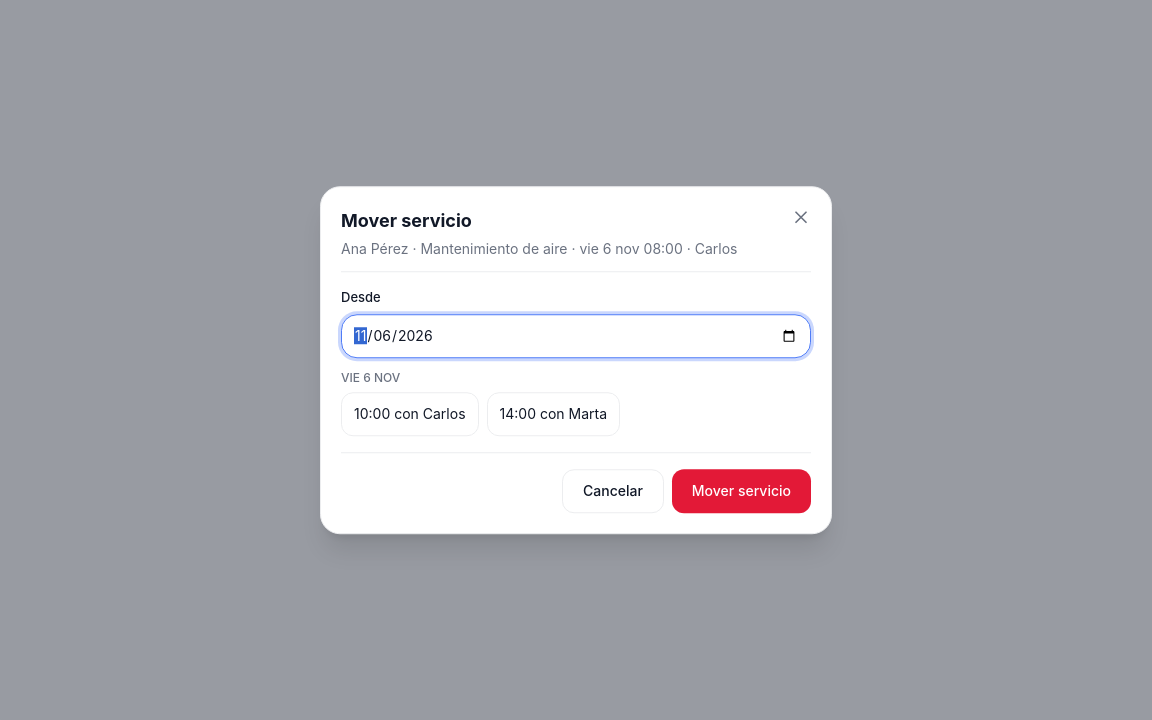
MoveAppointmentDialog › avisa con claridad que cambia el técnico y que se informará al cliente
Click the radio button labelled "14:00 con Marta". click: (553, 414)
box: 486,392 -> 620,436
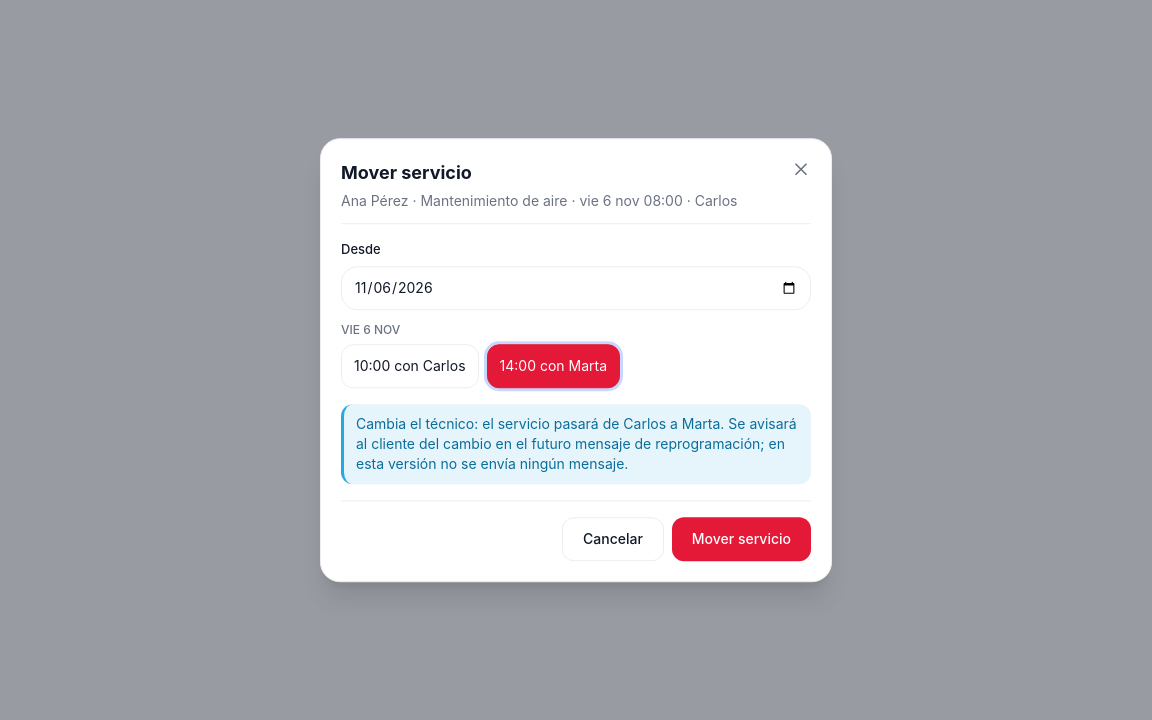
Expected: the message shows "Cambia el técnico: el servicio pasará de Carlos a Marta.", 341,404 -> 811,484
Expected: the message shows "Se avisará al cliente del cambio en el futuro mensaje de reprogramación; en esta versión no se envía ningún mensaje.", 356,415 -> 797,472
